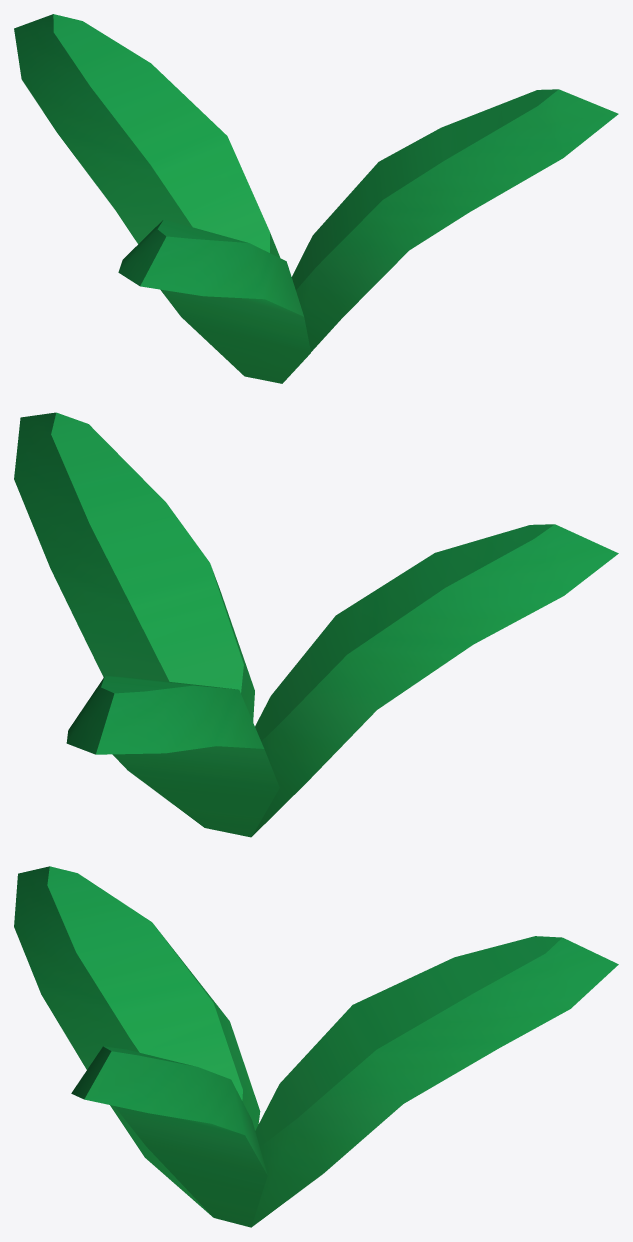
The model's file is Grass_A_1.fbx.
The picture shows the model from 3 angles, top to bottom: view 1: azimuth 30°, elevation 25°; view 2: azimuth 150°, elevation 25°; view 3: azimuth 270°, elevation 25°; orthographic projection. The views are drawn at different scales.
Parts seen in each view (by area): view 1: Grass_A_1; view 2: Grass_A_1; view 3: Grass_A_1.
Boxes of the visible parts, box(x1,y1,x2,y2) form: Grass_A_1: box(14, 14, 618, 383); Grass_A_1: box(14, 412, 618, 837); Grass_A_1: box(14, 866, 618, 1227).
Bounding box in the file's own units: 35.84 × 18.53 × 36.78.
